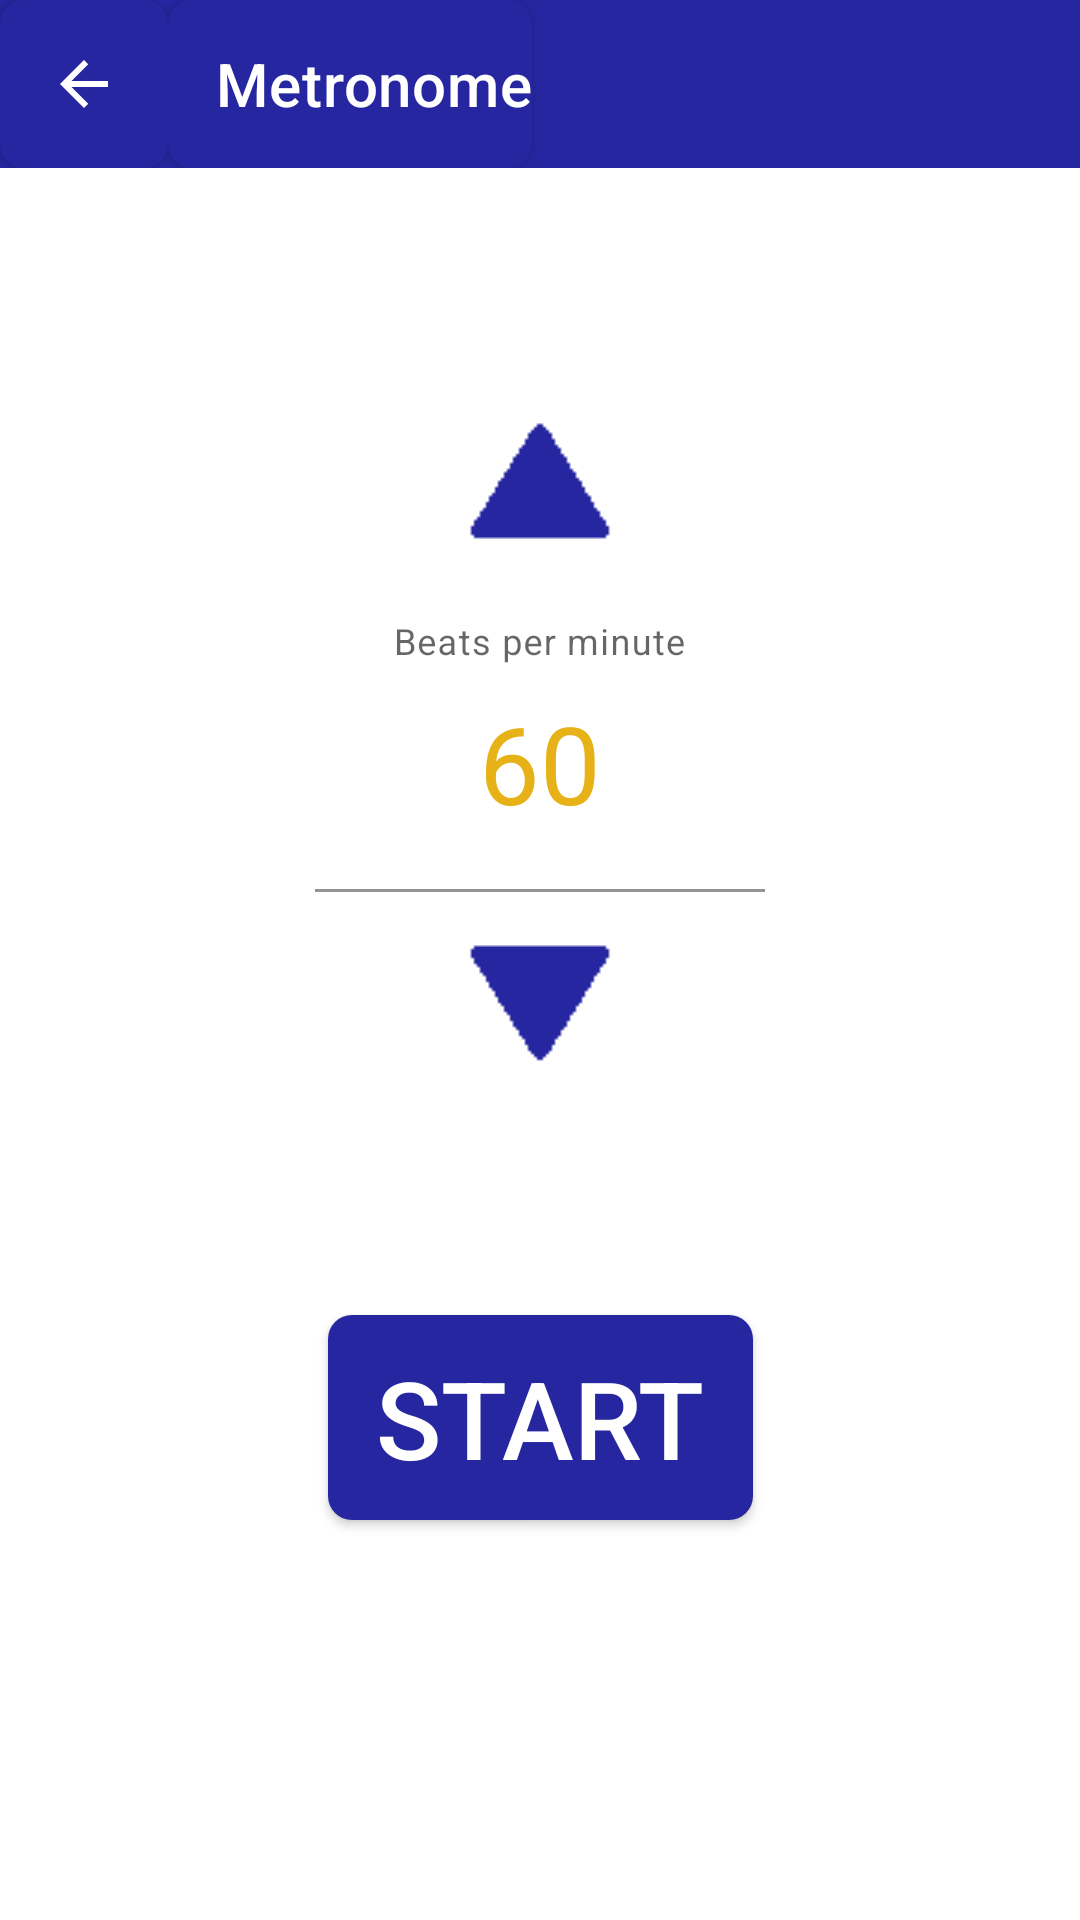

Icons on this 1080x1920 Android screen, each with the point to tap as (x=x, y=y):
down: (x=540, y=1003)
